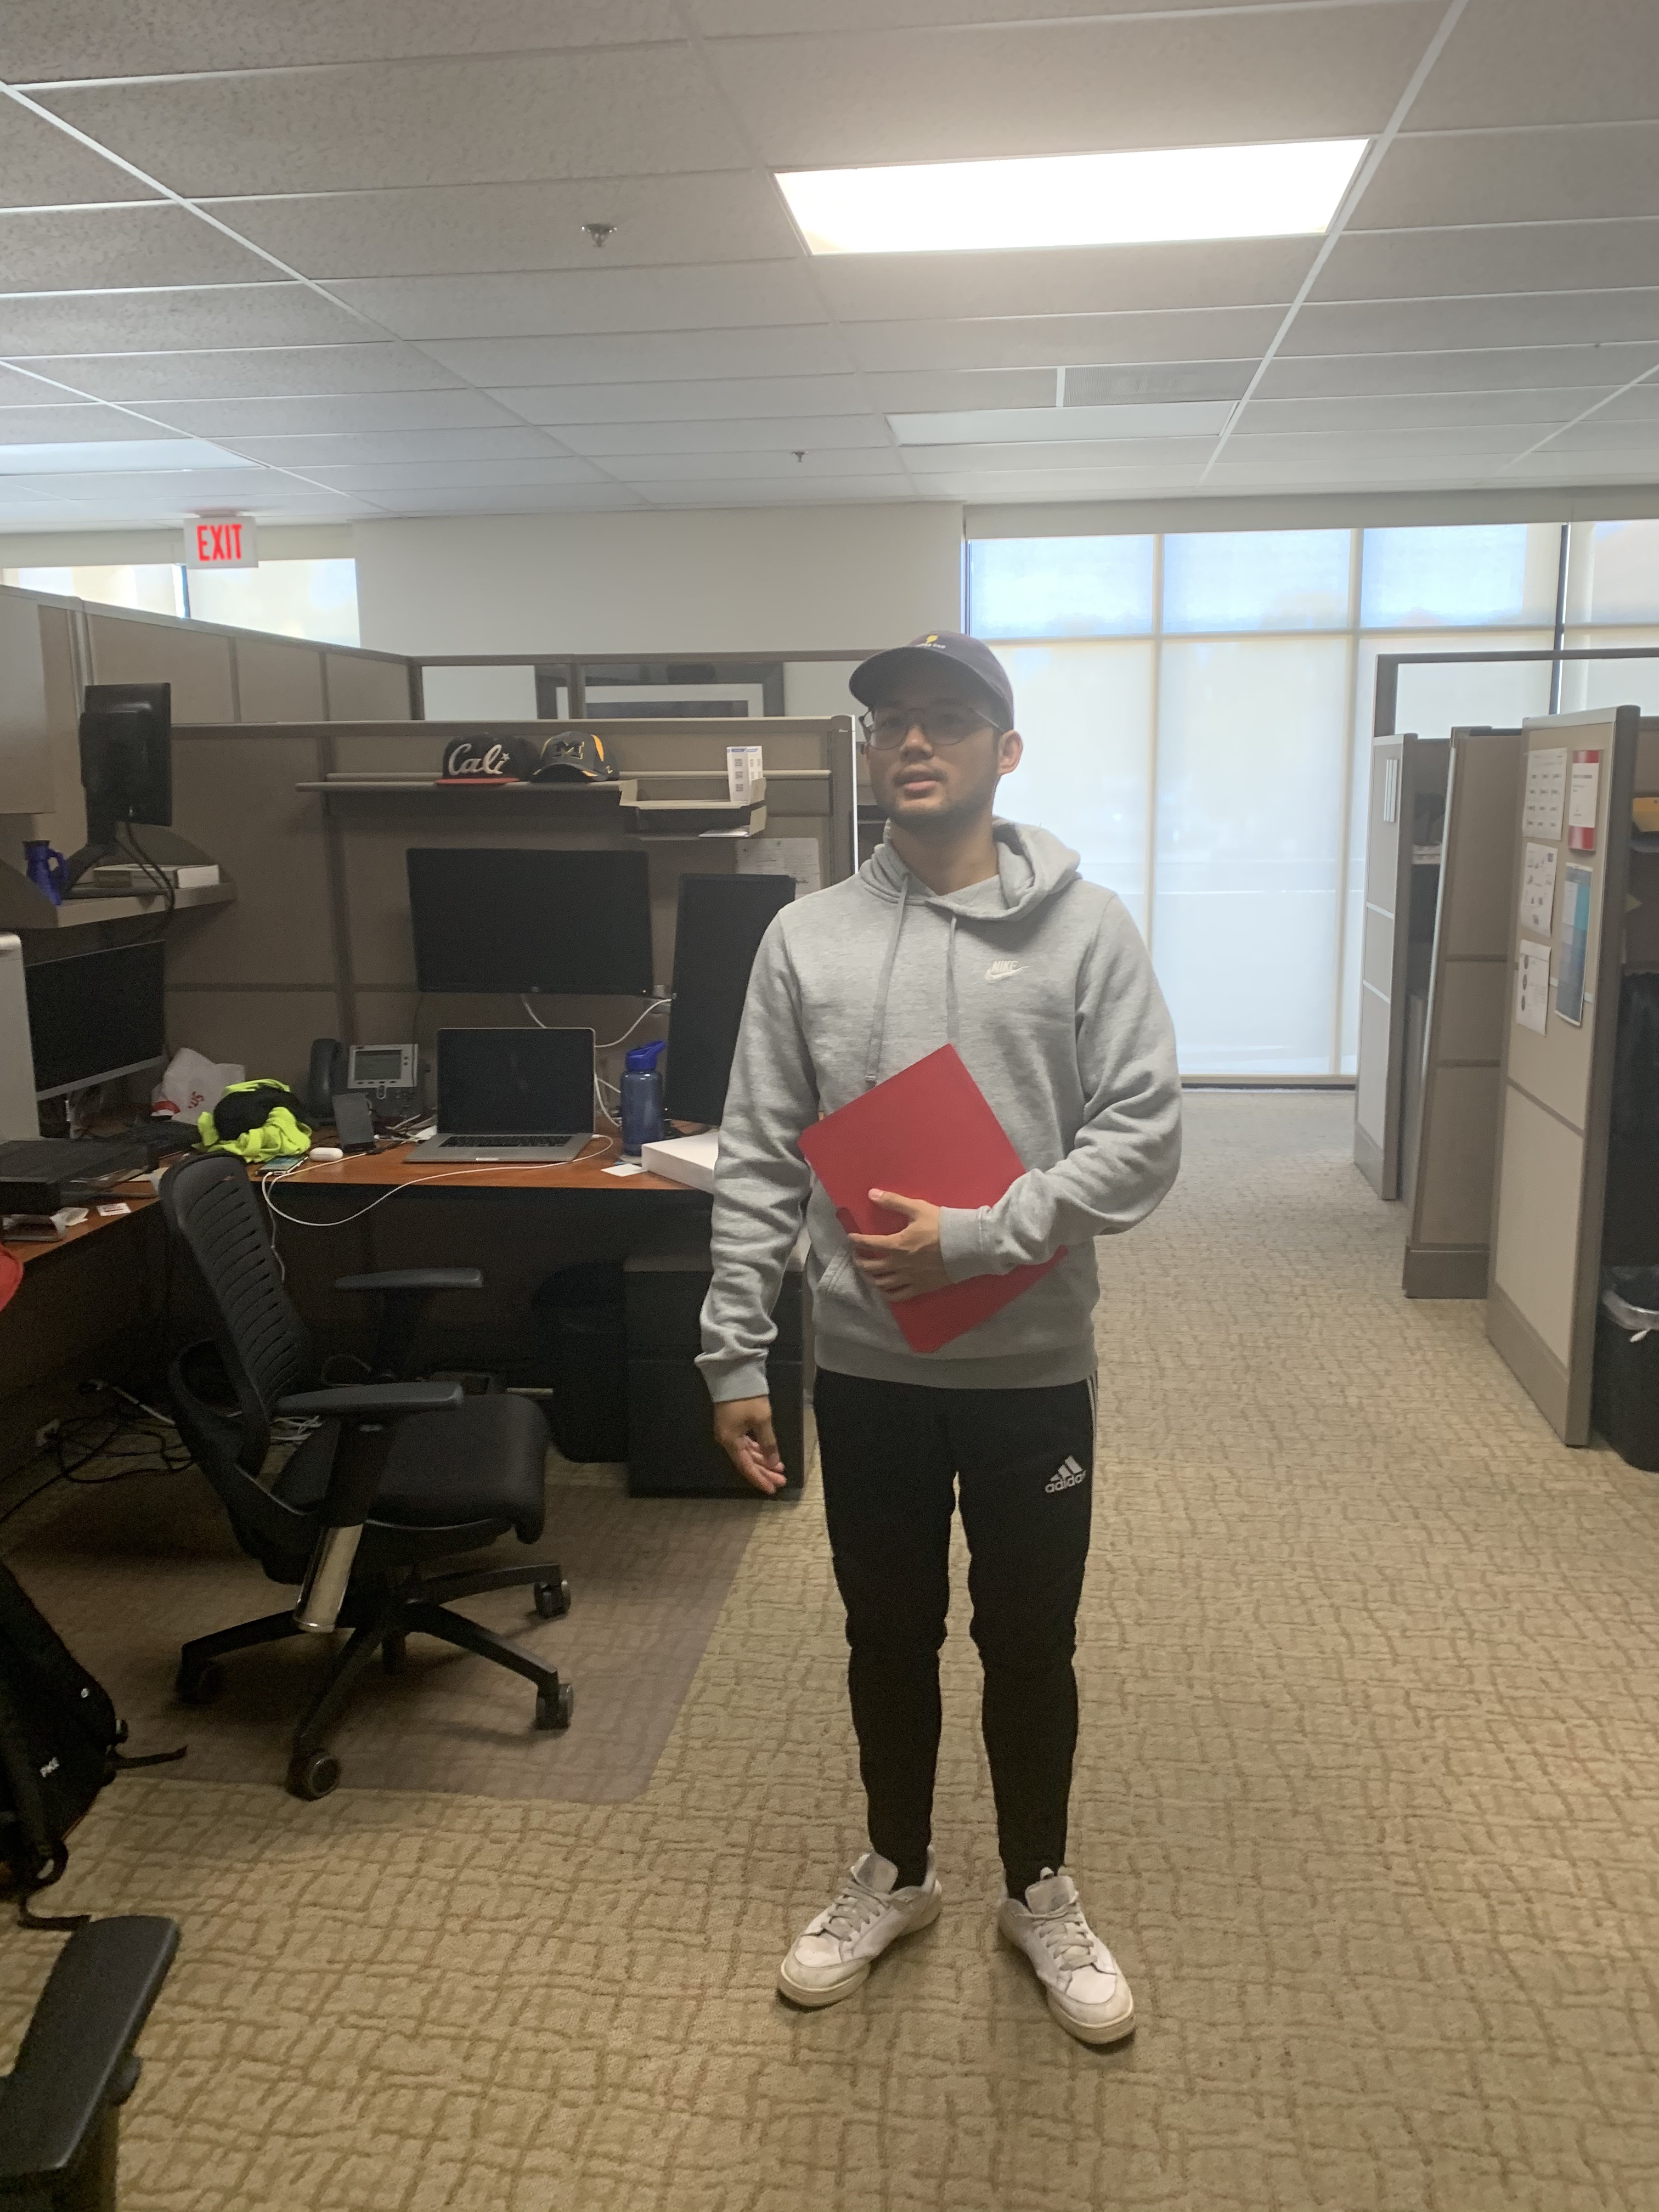red folder: (789, 1040, 1086, 1367)
